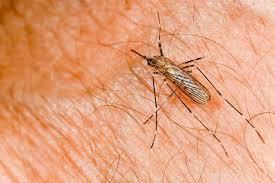Insects: (103, 11, 269, 160)
